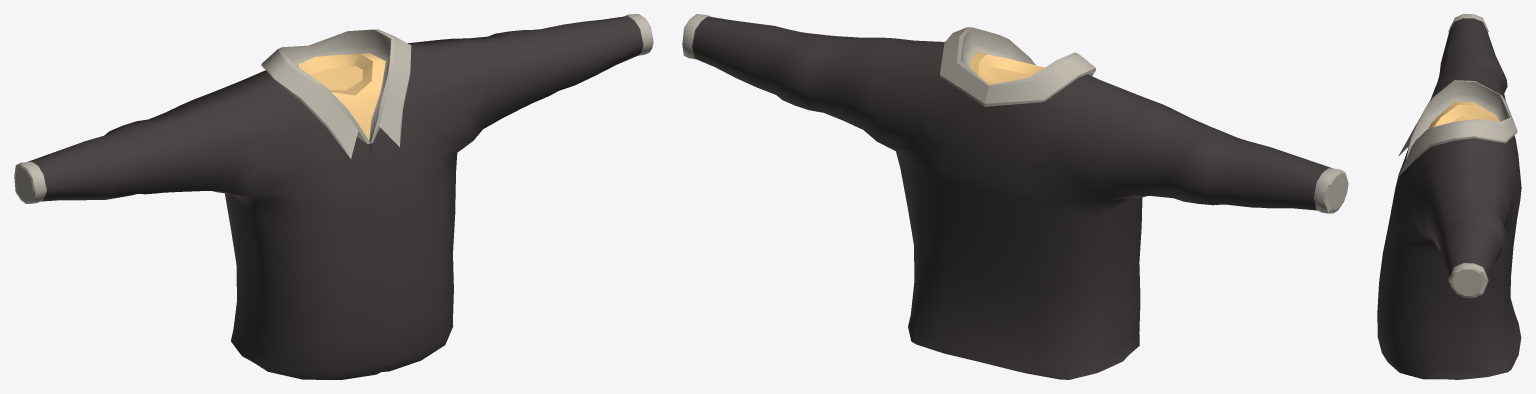
Rendered from Torso_11_03.fbx.
3 renders of one model, left to right at view 1: azimuth 30°, elevation 25°; view 2: azimuth 150°, elevation 25°; view 3: azimuth 270°, elevation 25°, orthographic. The views are drawn at different scales.
Visible parts, largest first — view 1: Torso_11_03; view 2: Torso_11_03; view 3: Torso_11_03.
Boxes of the visible parts, x1,y1,x2,y2 form: Torso_11_03: (14, 14, 653, 379); Torso_11_03: (682, 14, 1348, 379); Torso_11_03: (1377, 14, 1521, 379).
Bounding box in the file's own units: 118 × 53.29 × 28.2.
